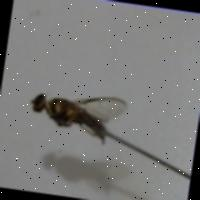Oriental-fruit-fly: (23, 67, 133, 155)
